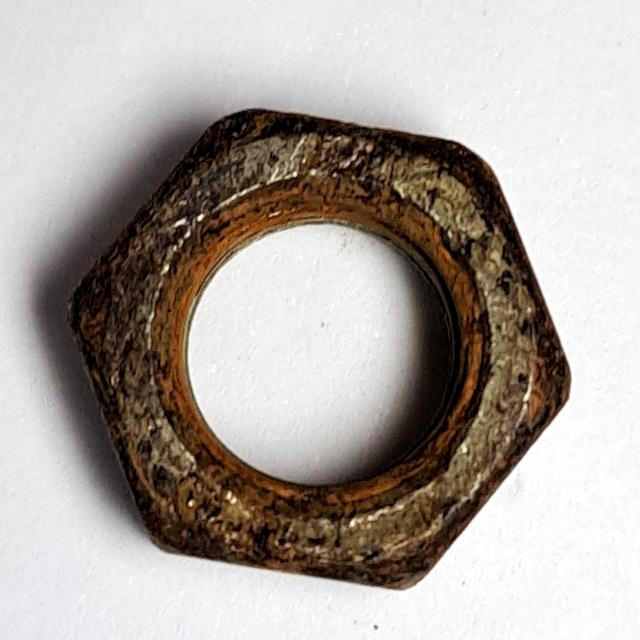Rust: (42, 96, 591, 603)
